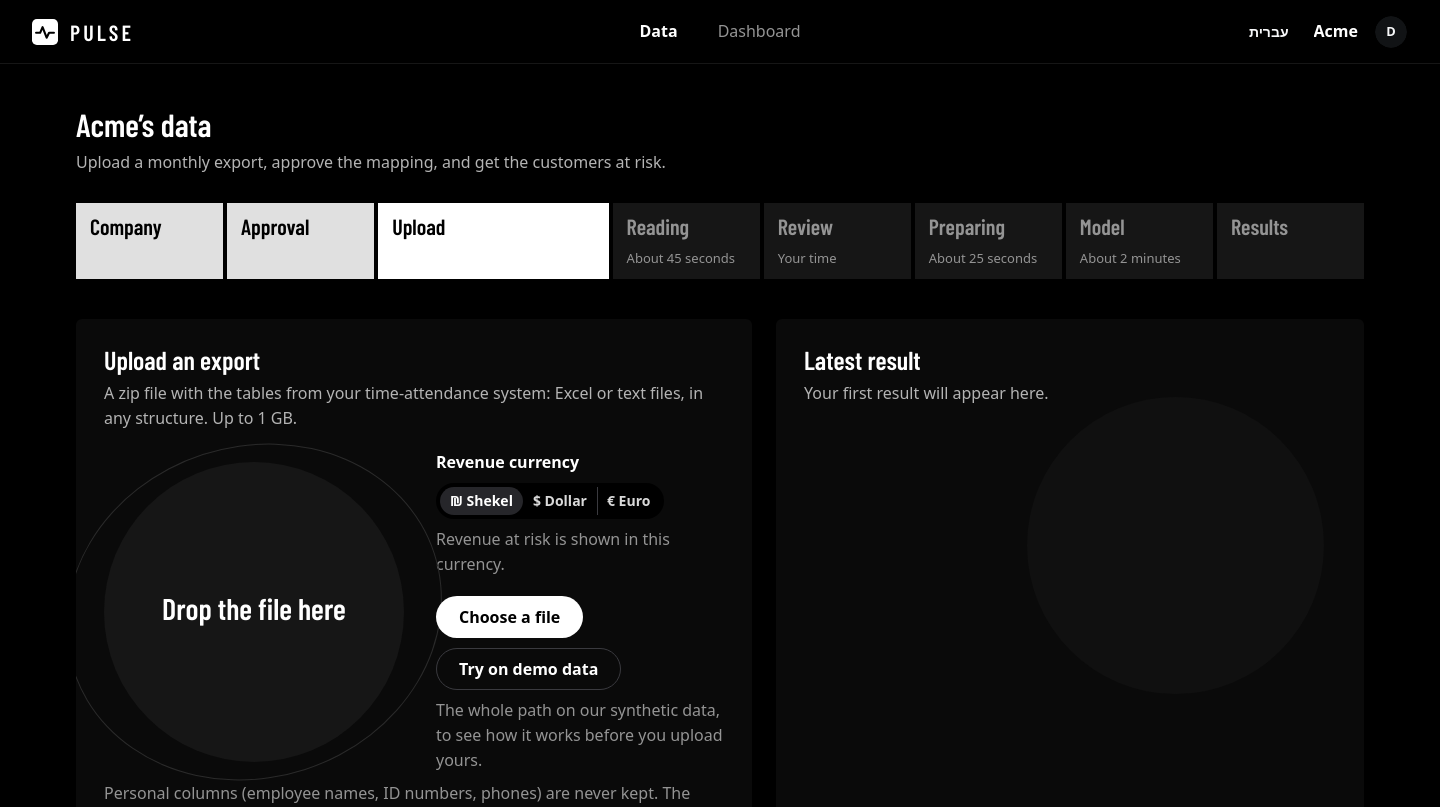
Test case: upload and the demo › starts the demo in the page's language
expect the text "The whole path on our synthetic data, to see how it works before you upload yours." is shown: met, box [436, 700, 722, 771]
Step 1. Click the button "Try on demo data" → (529, 670), box [436, 648, 621, 690]
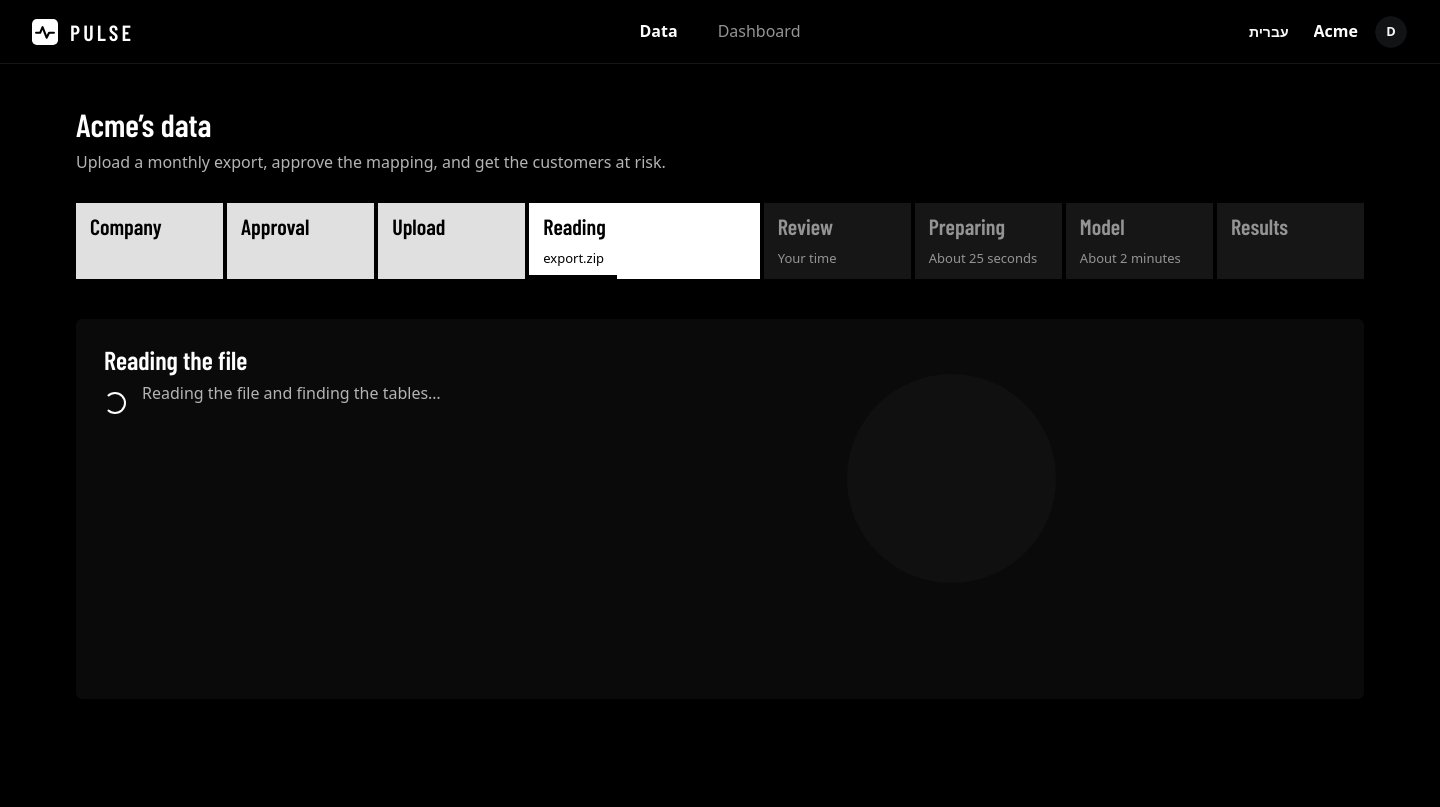
expect the text "Reading the file and finding the tables…" is shown: met, box [142, 381, 441, 406]
